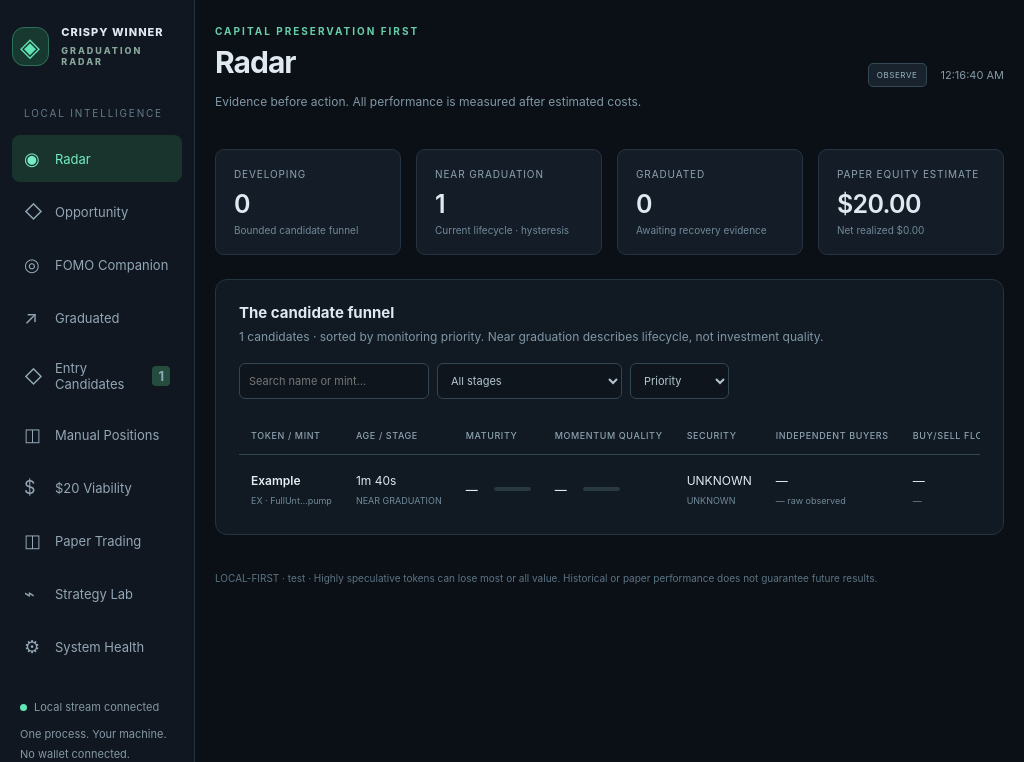
navigation, intelligence and SSE invalidate entry to TOO_LATE without companion fetching
Click the button "◎ FOMO Companion".
click(97, 264)  # box [12,241,182,288]
(page scrolled)
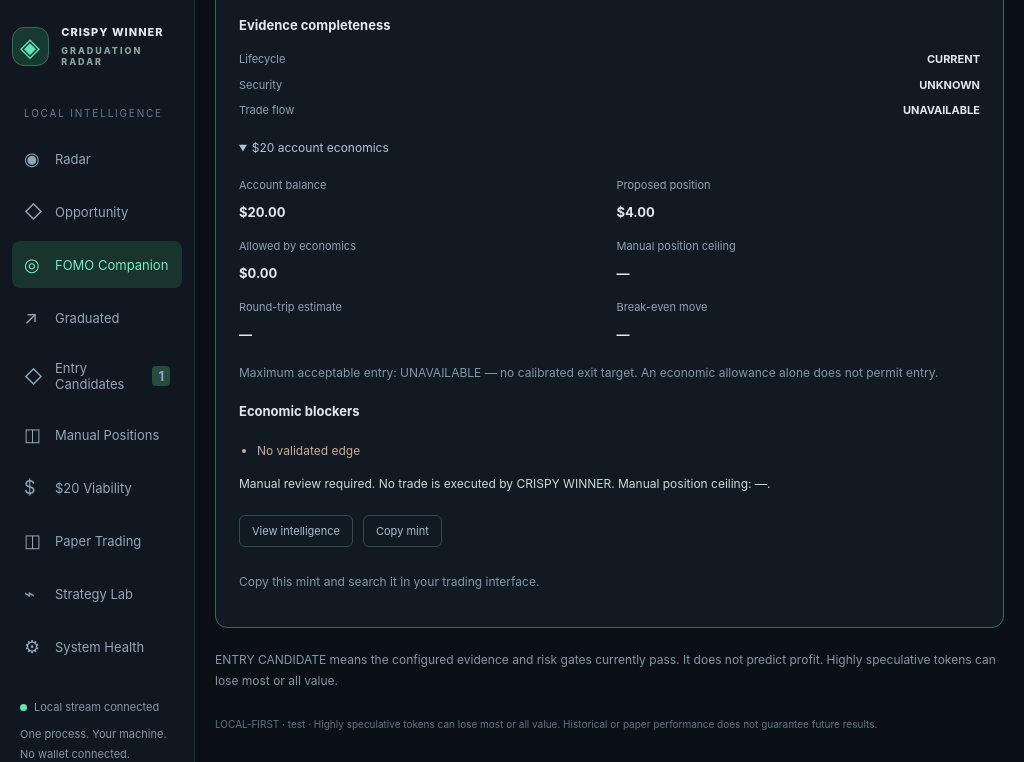
Click the button "View intelligence".
click(296, 531)  # box [239,515,353,547]
(page scrolled)
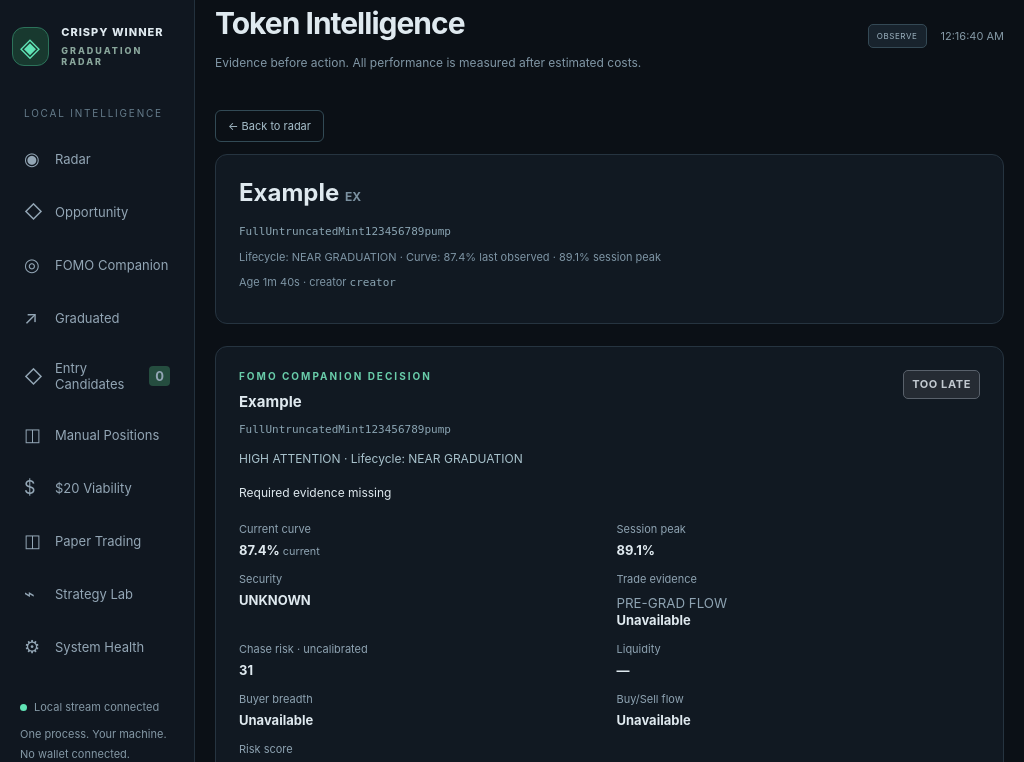
expect the text "FOMO COMPANION DECISION" is shown: met, box [239,370,451,382]
expect the text "TOO LATE" is shown: met, box [903,370,980,399]
